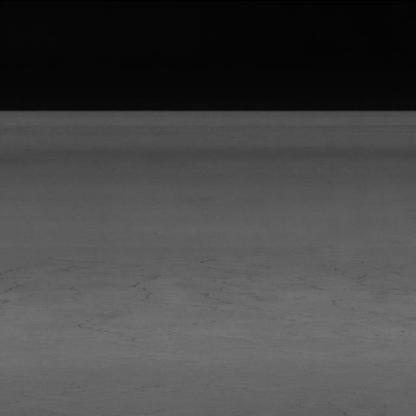silk_spot: (73, 254, 320, 344)
